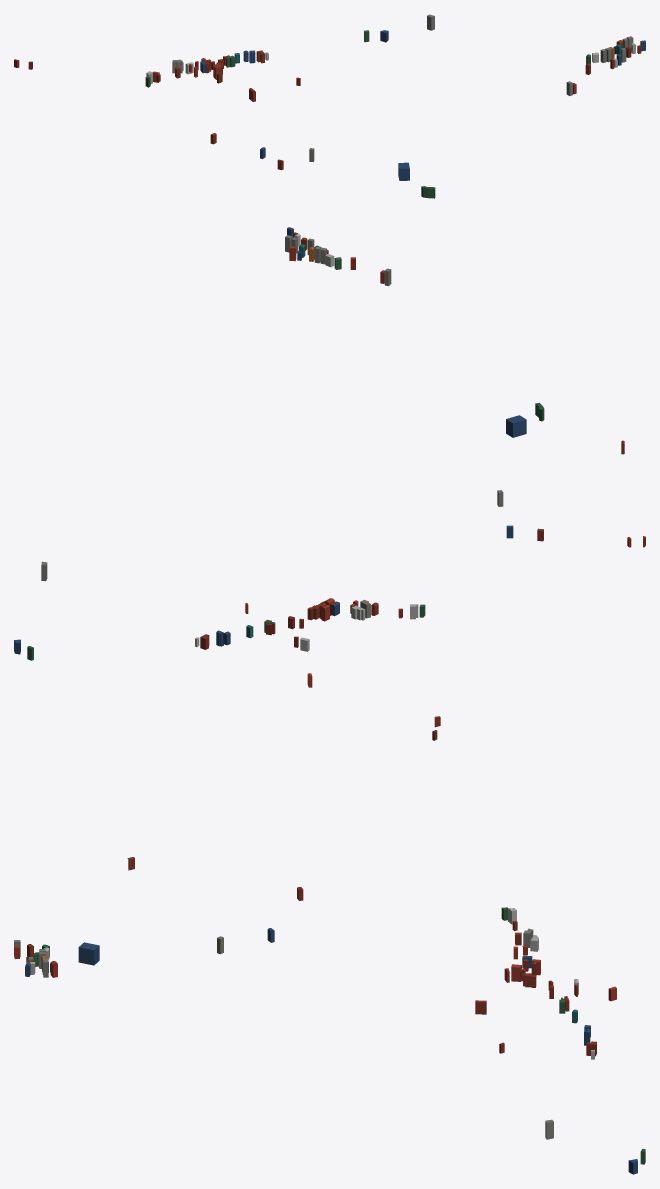
File: near-15-27370-14863.4dcf79c5.glb
The picture shows the model from 3 angles, top to bottom: view 1: azimuth 30°, elevation 25°; view 2: azimuth 150°, elevation 25°; view 3: azimuth 270°, elevation 25°; orthographic projection. The views are drawn at different scales.
Bounding box in the file's own units: 938 × 336 × 886.
